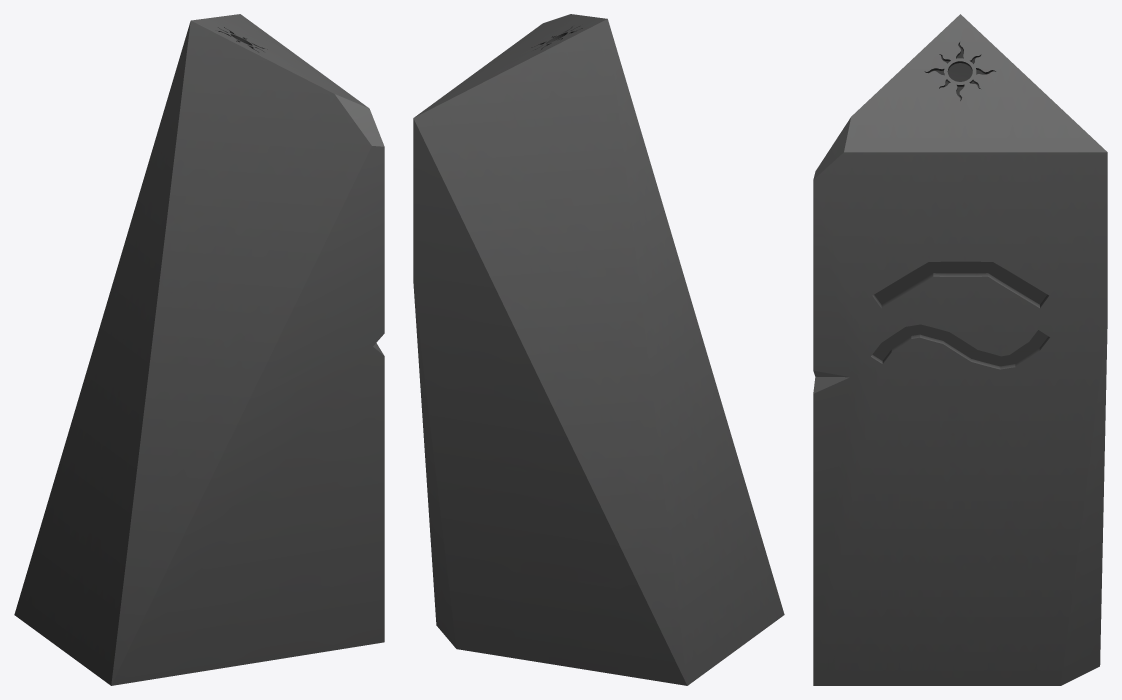
File: stelle_beach.glb
3 views of the same model, side by side, from view 1: azimuth 30°, elevation 25°; view 2: azimuth 150°, elevation 25°; view 3: azimuth 270°, elevation 25° (orthographic). The views are drawn at different scales.
Visible parts, largest first — view 1: stelle_beach_merged; view 2: stelle_beach_merged; view 3: stelle_beach_merged.
Boxes of the visible parts, bbox=[...] form: stelle_beach_merged: bbox=[14, 14, 384, 685]; stelle_beach_merged: bbox=[413, 14, 784, 685]; stelle_beach_merged: bbox=[813, 14, 1107, 685].
Size of the model in its own units: 2 by 4.58 by 2.
Materials: 1 (1 with a texture image).
